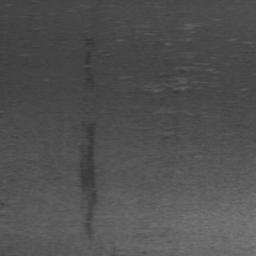Iron scale compression: (80, 124, 97, 240), (85, 50, 93, 90)
